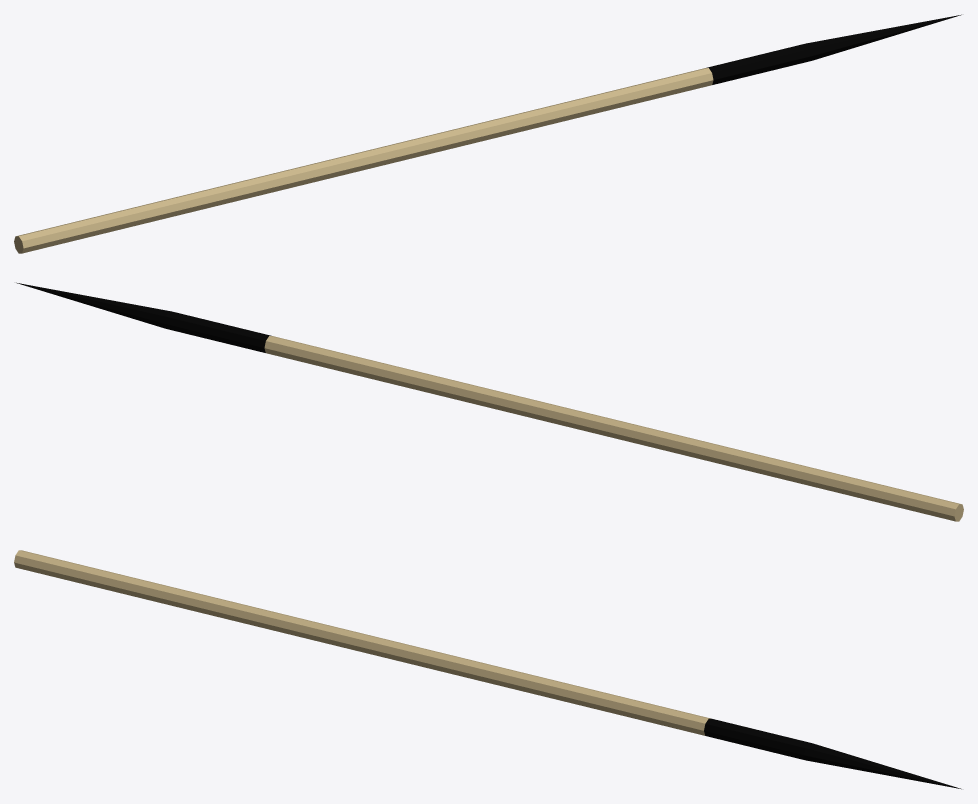
The model's file is spear.fbx.
The picture shows the model from 3 angles, top to bottom: view 1: azimuth 30°, elevation 25°; view 2: azimuth 150°, elevation 25°; view 3: azimuth 330°, elevation 25°; orthographic projection.
Parts seen in each view (by area): view 1: Cylinder; view 2: Cylinder; view 3: Cylinder.
Part boxes in pixels (x1,y1,x2,y2): Cylinder: [14, 14, 961, 253]; Cylinder: [16, 282, 963, 521]; Cylinder: [14, 550, 961, 789].
Bounding box in the file's own units: 171 × 3 × 3.
